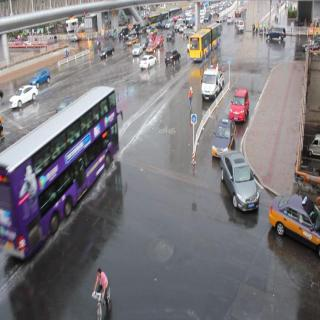BigCar: (188, 16, 223, 64)
Car: (0, 88, 124, 262), (269, 184, 320, 262), (218, 149, 261, 217), (212, 113, 236, 165), (230, 80, 250, 126), (5, 84, 40, 110), (263, 22, 287, 47), (28, 67, 52, 90), (96, 44, 120, 63), (162, 46, 182, 68), (138, 54, 158, 72), (130, 40, 144, 59)
